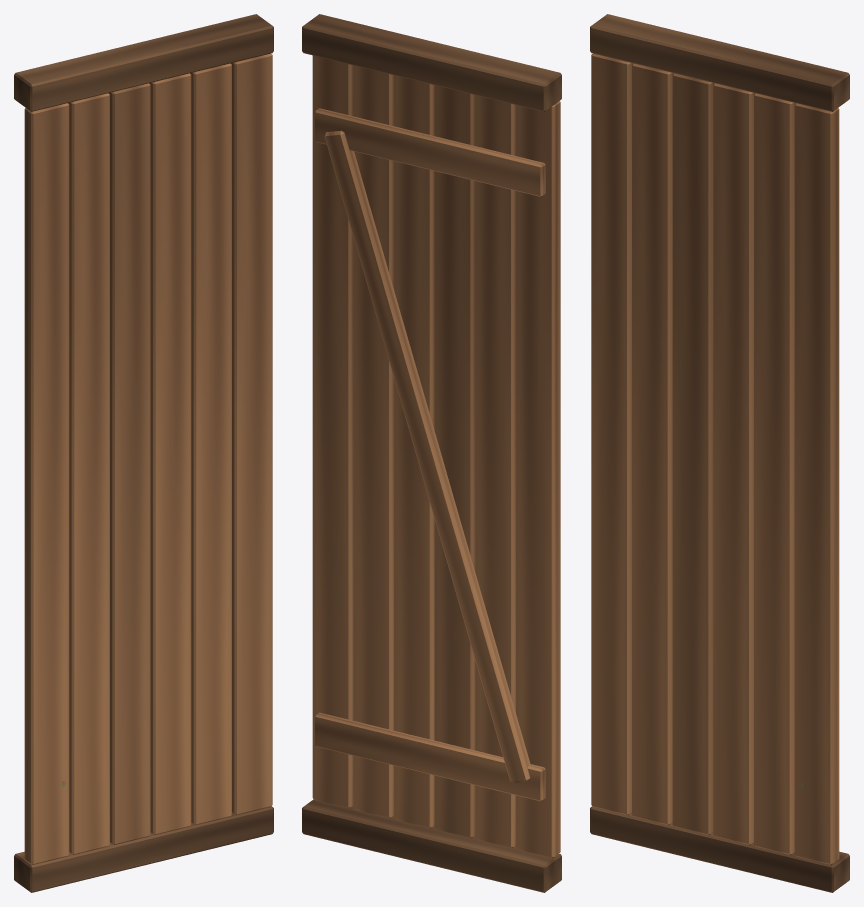
Rendered from town_building_side_infill_v01.glb.
The picture shows the model from 3 angles, left to right: view 1: azimuth 30°, elevation 25°; view 2: azimuth 150°, elevation 25°; view 3: azimuth 330°, elevation 25°; orthographic projection.
Visible parts, largest first — view 1: LOD0_Static; view 2: LOD0_Static; view 3: LOD0_Static.
Part boxes in pixels (x1,y1,x2,y2): LOD0_Static: (14, 14, 273, 892); LOD0_Static: (302, 14, 561, 892); LOD0_Static: (590, 14, 849, 892).
Size of the model in its own units: 0.6 by 1.9 by 0.075.
2 materials, 2 textured.
